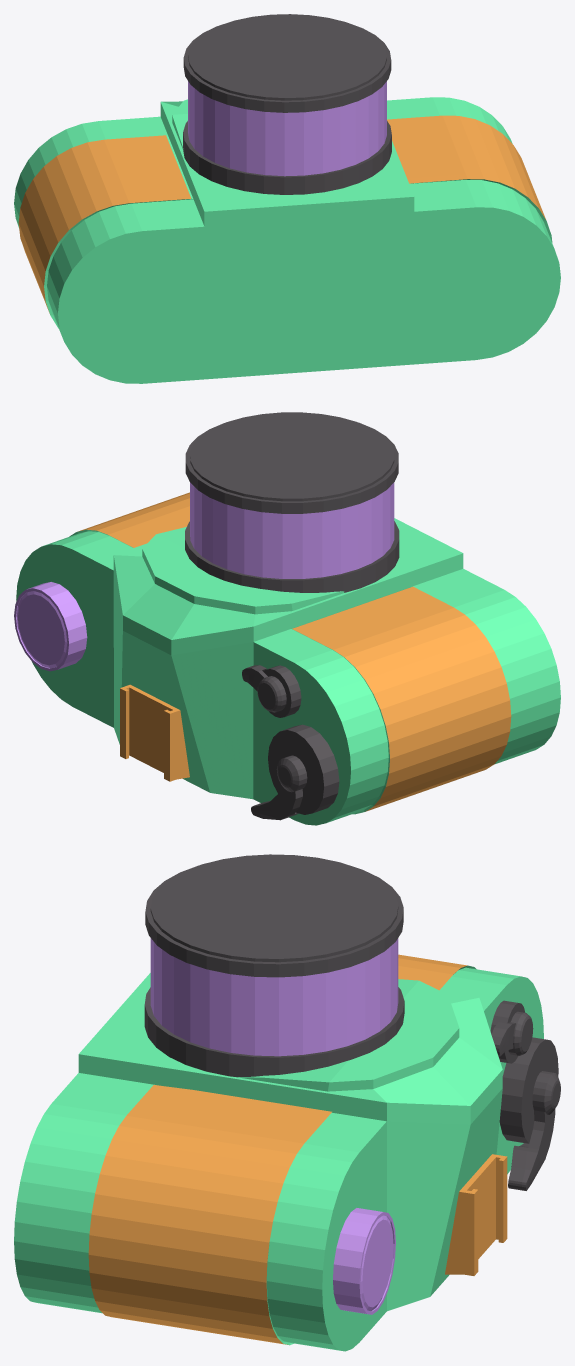
File: ToyObject_049.fbx
3 views of the same model, one above another, from view 1: azimuth 30°, elevation 25°; view 2: azimuth 150°, elevation 25°; view 3: azimuth 270°, elevation 25° (orthographic). The views are drawn at different scales.
Parts seen in each view (by area): view 1: Object.071; view 2: Object.071; view 3: Object.071.
Boxes of the visible parts, x1,y1,x2,y2 form: Object.071: [14, 14, 560, 383]; Object.071: [14, 412, 560, 825]; Object.071: [14, 854, 560, 1351].
Size of the model in its own units: 0.1826 by 0.0931 by 0.1406.
